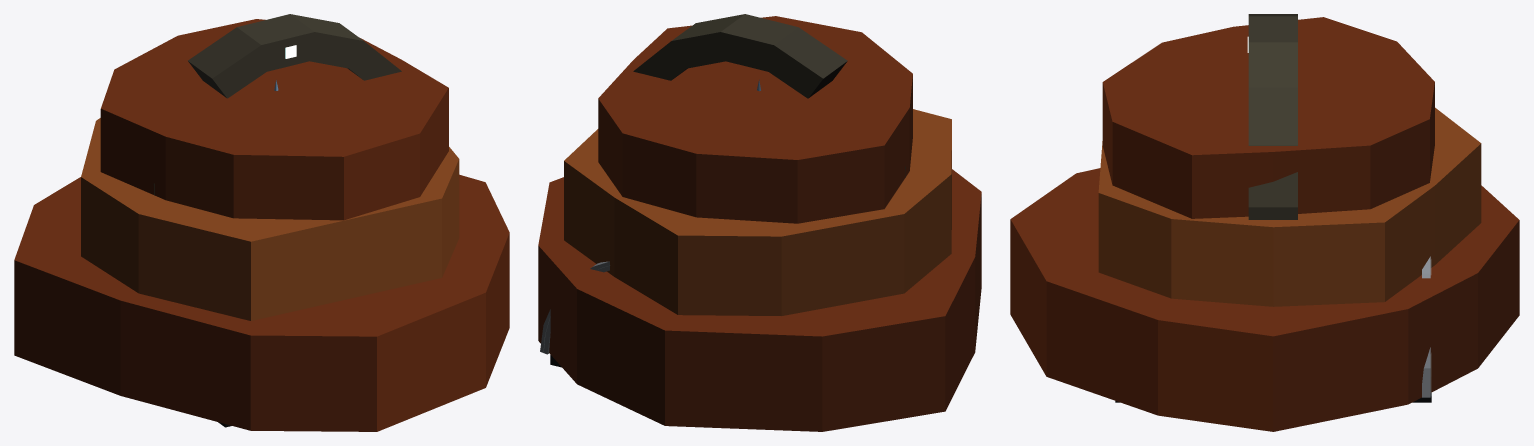
File: shaddai_realm_props_v01.glb
3 renders of one model, left to right at view 1: azimuth 30°, elevation 25°; view 2: azimuth 150°, elevation 25°; view 3: azimuth 270°, elevation 25°, orthographic.
Parts seen in each view (by area): view 1: prop_desert_mesa, prop_meadow_rune_arch; view 2: prop_desert_mesa, prop_meadow_rune_arch, prop_ocean_tube_wide_18m; view 3: prop_desert_mesa, prop_meadow_rune_arch, prop_ocean_tube_wide_18m.
Part boxes in pixels (x1,y1,x2,y2): prop_desert_mesa: (14, 19, 509, 431); prop_meadow_rune_arch: (153, 14, 401, 195); prop_desert_mesa: (538, 16, 981, 431); prop_meadow_rune_arch: (633, 14, 905, 177); prop_ocean_tube_wide_18m: (540, 261, 609, 367); prop_desert_mesa: (1010, 17, 1519, 431); prop_meadow_rune_arch: (1247, 14, 1297, 219); prop_ocean_tube_wide_18m: (1115, 256, 1431, 402).
Bounding box in the file's own units: 28.54 × 19.43 × 28.96.
